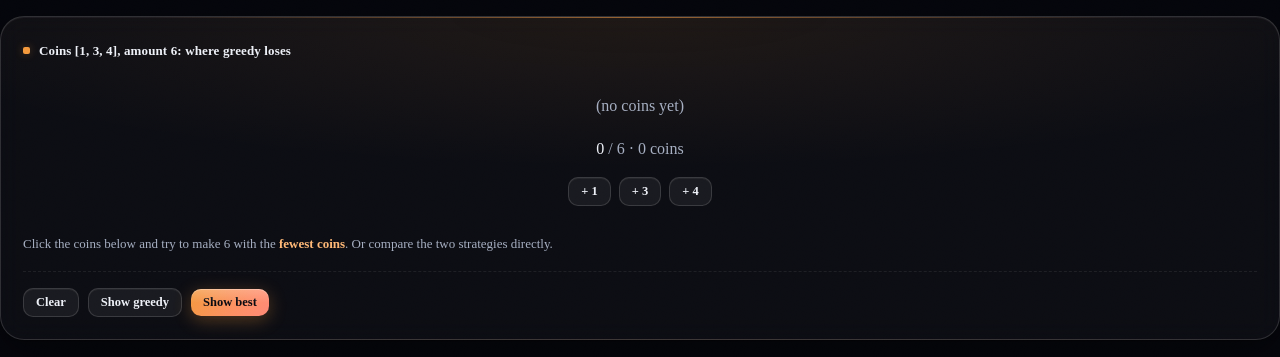
it: coin greedy lab › keeps the best count hidden until Show best is pressed
Step 1. Click the button "Show greedy" → (135, 303), box [88,288,182,317]
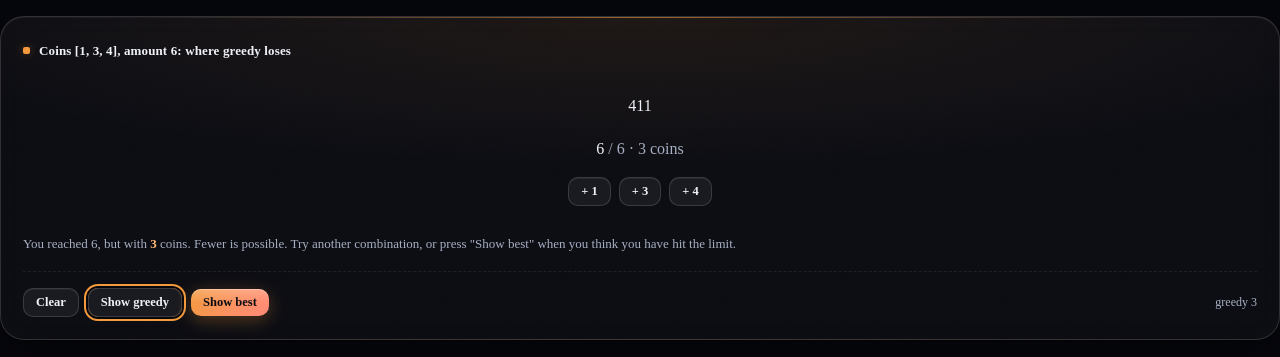
Check: the text "best 2" is not shown
Check: the element showing "Clear Show greedy Show best greedy 3" is shown, box [23,271,1257,317]
Check: the element that starts with "You reached" shows "Fewer is possible", box [157,236,736,251]
Step 2. Click the button "Show best" → (230, 303), box [191,289,269,316]
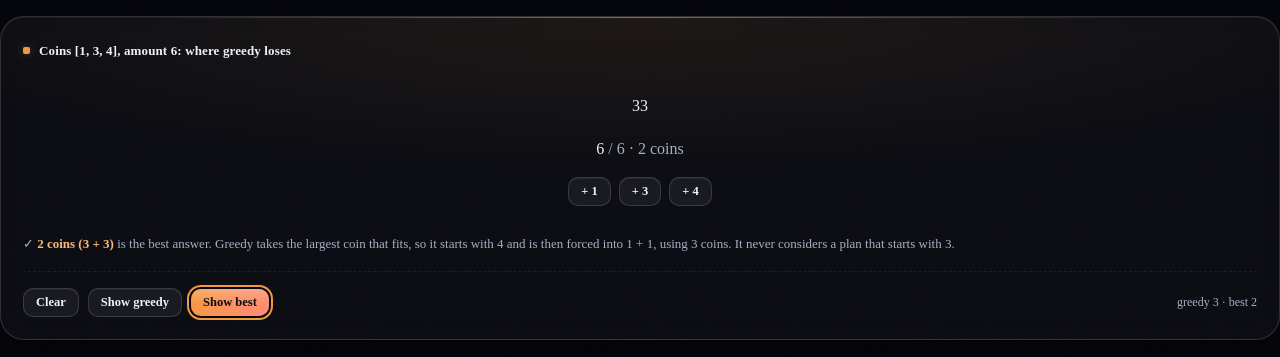
Check: the element showing "Clear Show greedy Show best greedy 3 · best 2" is shown, box [23,271,1257,317]
Check: the element that starts with "2 coins (3 + 3)" is shown, box [37,236,114,251]
